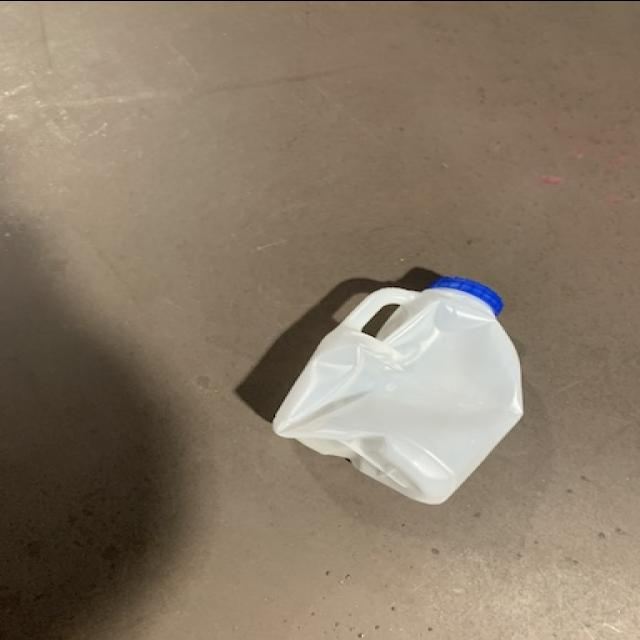litter: (266, 270, 526, 508)
